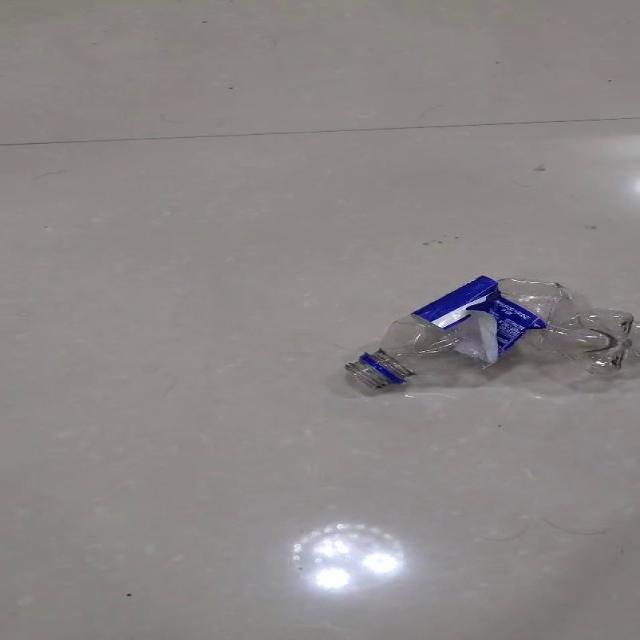plastic: (343, 274, 633, 393)
